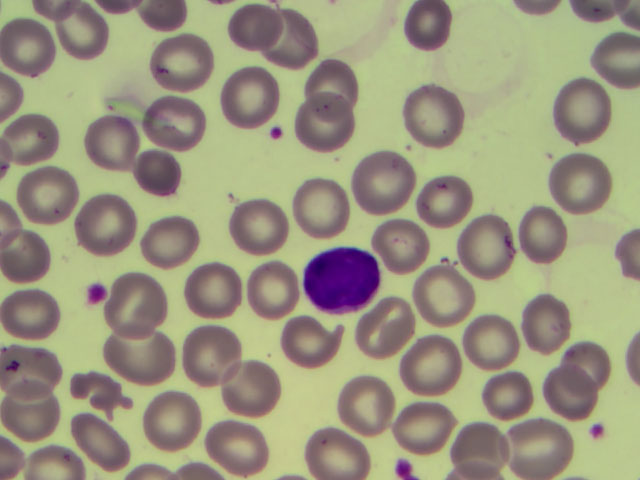Platelets: (585, 417, 614, 446), (84, 277, 109, 309), (395, 456, 421, 480)
RBC: (285, 415, 356, 480), (506, 415, 577, 480), (147, 31, 218, 95), (142, 87, 213, 151), (138, 144, 209, 208), (85, 121, 156, 185), (68, 183, 139, 247), (17, 155, 88, 219), (2, 112, 73, 176), (47, 5, 118, 69), (6, 15, 77, 79), (255, 13, 326, 77), (218, 69, 289, 133), (289, 91, 360, 155), (299, 44, 370, 108), (394, 3, 465, 67), (402, 85, 473, 149), (343, 141, 414, 205), (399, 170, 470, 234), (461, 218, 532, 282), (372, 211, 443, 275), (410, 265, 481, 329), (354, 292, 425, 356), (392, 340, 463, 404), (334, 366, 405, 430), (281, 316, 352, 380), (247, 253, 318, 317), (217, 201, 288, 265), (284, 169, 355, 233), (179, 265, 250, 329), (143, 208, 214, 272), (179, 329, 250, 393), (119, 332, 190, 396), (109, 260, 180, 324), (62, 359, 133, 423), (2, 342, 73, 406), (6, 380, 77, 444), (65, 411, 136, 475), (156, 390, 227, 454), (189, 413, 260, 477), (214, 351, 285, 415), (458, 310, 529, 374), (514, 295, 585, 359), (516, 204, 587, 268), (553, 150, 624, 214), (552, 83, 623, 147), (537, 360, 608, 424), (552, 334, 623, 398), (471, 358, 542, 422), (452, 415, 523, 479), (1, 279, 71, 343), (229, 1, 300, 64)
WBC: (299, 242, 382, 313)
